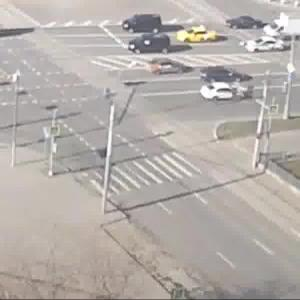car: (175, 23, 226, 48), (198, 67, 258, 88), (129, 36, 169, 60), (264, 19, 300, 42), (206, 83, 244, 103), (127, 12, 157, 36), (244, 36, 281, 55), (227, 16, 265, 30), (155, 61, 186, 77)
